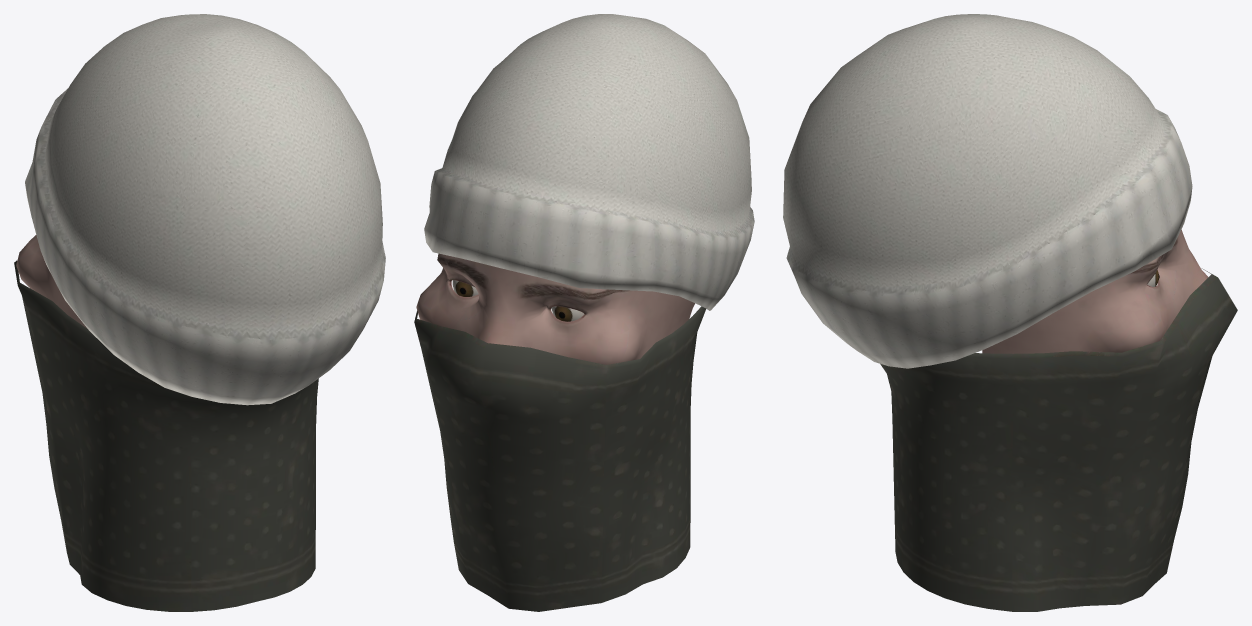
The model's file is avatar_head.glb.
3 views of the same model, side by side, from view 1: azimuth 30°, elevation 25°; view 2: azimuth 150°, elevation 25°; view 3: azimuth 270°, elevation 25° (orthographic). The views are drawn at different scales.
Visible parts, largest first — view 1: tint, head; view 2: head, tint; view 3: tint, head.
Part boxes in pixels (x1,y1,x2,y2): tint: (25, 14, 385, 405); head: (14, 235, 318, 611); head: (414, 253, 705, 611); tint: (424, 14, 754, 310); tint: (783, 14, 1192, 368); head: (880, 229, 1237, 611).
Size of the model in its own units: 0.1674 by 0.3133 by 0.2354.
2 materials, 2 textured.
